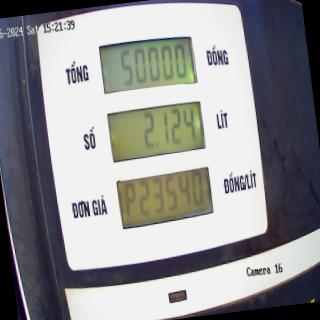screen: (95, 31, 218, 230)
